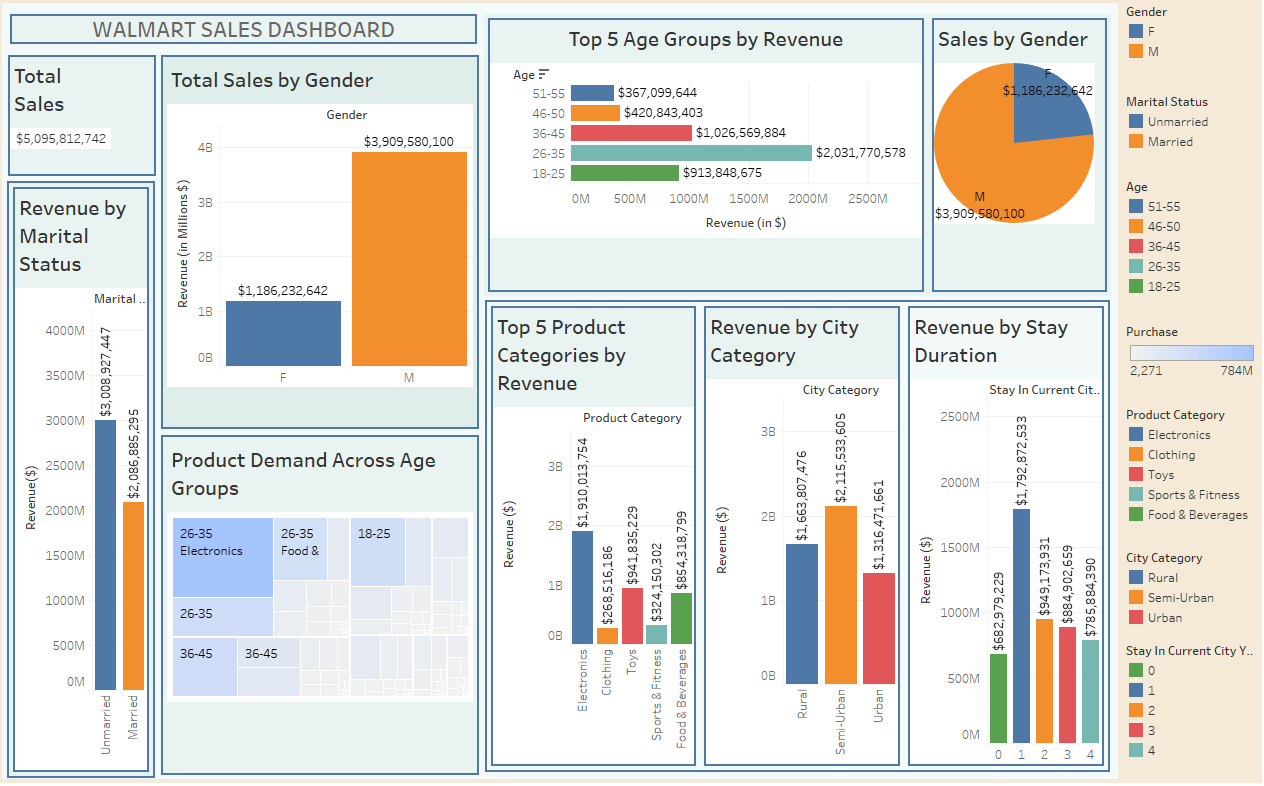

The dashboard page shown, as its layout file describes it:
{"tool":"tableau","page":{"name":"Walmart Sales Dashboard","canvas":[1280,800],"ordinal":0},"visuals":[{"type":"blank","box":[8,8,1124,784]},{"type":"legend","title":"Total Sales by Gender","param":"[federated.1evsboy09pkr0f19fx6mj02odh5q].[none:Gender:nk]","box":[1132,8,140,90]},{"type":"text","box":[20,23,467,30]},{"type":"worksheet","title":"Top 5 Age Groups by Revenue","mark":"Automatic","rows":["Age"],"cols":["Purchase"],"box":[494,23,444,282]},{"type":"worksheet","title":"Sales Share by Gender","mark":"Pie","box":[938,23,183,282]},{"type":"worksheet","title":"Total Sales","mark":"Automatic","box":[18,64,148,121]},{"type":"worksheet","title":"Total Sales by Gender","mark":"Automatic","rows":["Purchase"],"cols":["Gender"],"box":[173,66,314,334]},{"type":"legend","title":"Revenue by Marital Status","param":"[federated.1evsboy09pkr0f19fx6mj02odh5q].[none:Marital_Status:ok]","box":[1132,98,140,85]},{"type":"legend","title":"Top 5 Age Groups by Revenue","param":"[federated.1evsboy09pkr0f19fx6mj02odh5q].[none:Age:nk]","box":[1132,183,140,145]},{"type":"worksheet","title":"Revenue by Marital Status","mark":"Automatic","rows":["Purchase"],"cols":["Marital_Status"],"box":[19,192,144,593]},{"type":"worksheet","title":"Top 5 Product Categories by Revenue","mark":"Automatic","rows":["Purchase"],"cols":["Product_Category"],"box":[497,311,213,468]},{"type":"worksheet","title":"Revenue by City Category","mark":"Automatic","rows":["Purchase"],"cols":["City_Category"],"box":[710,311,204,468]},{"type":"worksheet","title":"Revenue by Stay Duration","mark":"Automatic","rows":["Purchase"],"cols":["Stay_In_Current_City_Years"],"box":[914,311,204,468]},{"type":"legend","title":"Product Demand Across Age Groups","param":"[federated.1evsboy09pkr0f19fx6mj02odh5q].[sum:Purchase:qk]","box":[1132,328,140,83]},{"type":"legend","title":"Top 5 Product Categories by Revenue","param":"[federated.1evsboy09pkr0f19fx6mj02odh5q].[none:Product_Category:ok]","box":[1132,411,140,143]},{"type":"worksheet","title":"Product Demand Across Age Groups","mark":"Automatic","box":[173,446,314,308]},{"type":"legend","title":"Revenue by City Category","param":"[federated.1evsboy09pkr0f19fx6mj02odh5q].[none:City_Category:nk]","box":[1132,554,140,93]},{"type":"legend","title":"Revenue by Stay Duration","param":"[federated.1evsboy09pkr0f19fx6mj02odh5q].[none:Stay_In_Current_City_Years:ok]","box":[1132,647,140,126]}]}

Visuals, with their boxes in screenshot pixels (x1, y1, x2, y2), scaled from the page's 1280x800 canvas onto the 1264x786 screenshot:
blank: <region>8, 8, 1118, 778</region>
"Total Sales by Gender" legend: <region>1118, 8, 1256, 96</region>
text: <region>20, 23, 481, 52</region>
"Top 5 Age Groups by Revenue" worksheet: <region>488, 23, 926, 300</region>
"Sales Share by Gender" worksheet (Pie marks): <region>926, 23, 1107, 300</region>
"Total Sales" worksheet: <region>18, 63, 164, 182</region>
"Total Sales by Gender" worksheet: <region>171, 65, 481, 393</region>
"Revenue by Marital Status" legend: <region>1118, 96, 1256, 180</region>
"Top 5 Age Groups by Revenue" legend: <region>1118, 180, 1256, 322</region>
"Revenue by Marital Status" worksheet: <region>19, 189, 161, 771</region>
"Top 5 Product Categories by Revenue" worksheet: <region>491, 306, 701, 765</region>
"Revenue by City Category" worksheet: <region>701, 306, 903, 765</region>
"Revenue by Stay Duration" worksheet: <region>903, 306, 1104, 765</region>
"Product Demand Across Age Groups" legend: <region>1118, 322, 1256, 404</region>
"Top 5 Product Categories by Revenue" legend: <region>1118, 404, 1256, 544</region>
"Product Demand Across Age Groups" worksheet: <region>171, 438, 481, 741</region>
"Revenue by City Category" legend: <region>1118, 544, 1256, 636</region>
"Revenue by Stay Duration" legend: <region>1118, 636, 1256, 759</region>
